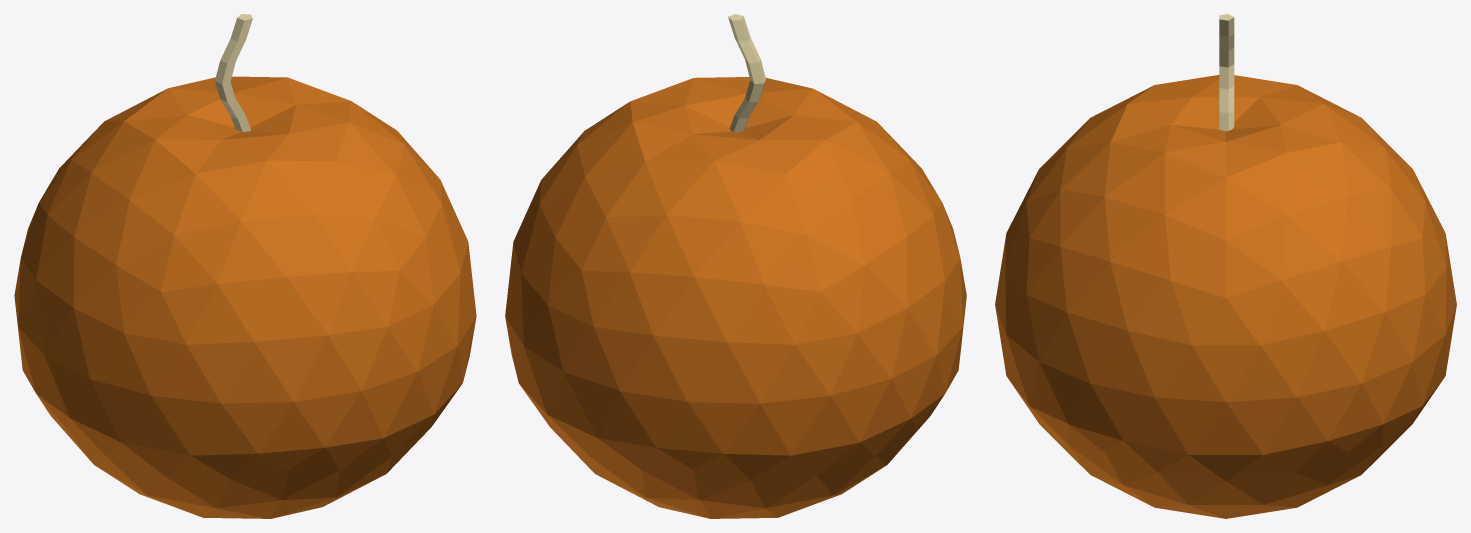
The model's file is portakal.fbx.
3 renders of one model, left to right at view 1: azimuth 30°, elevation 25°; view 2: azimuth 150°, elevation 25°; view 3: azimuth 270°, elevation 25°, orthographic.
Parts seen in each view (by area): view 1: Cylinder.001; view 2: Cylinder.001; view 3: Cylinder.001.
Part boxes in pixels (bbox=[...]): Cylinder.001: bbox=[14, 14, 476, 518]; Cylinder.001: bbox=[505, 14, 966, 518]; Cylinder.001: bbox=[995, 14, 1456, 518].
Size of the model in its own units: 200 by 229 by 200.
